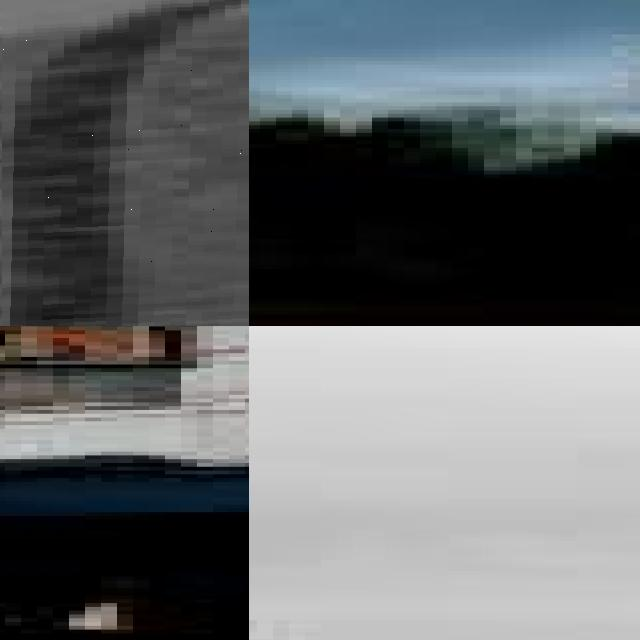street light: (2, 0, 249, 326)
